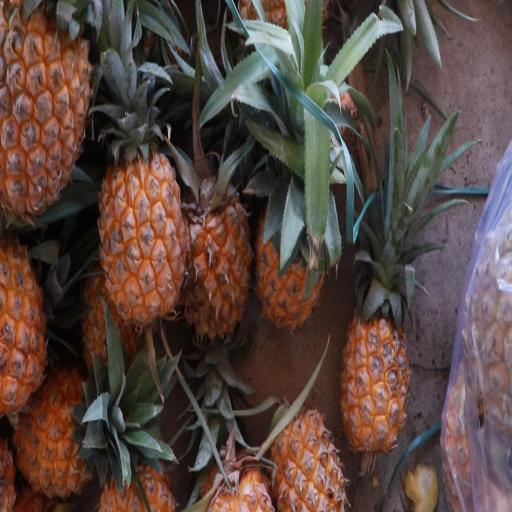Pineapple - v8 v1: (0, 0, 96, 227), (8, 357, 148, 504), (96, 130, 190, 332), (180, 156, 256, 352), (337, 272, 415, 461), (254, 171, 329, 346), (266, 390, 351, 512), (0, 228, 53, 418)
